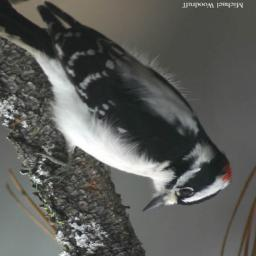Woodpecker: (0, 0, 232, 212)
